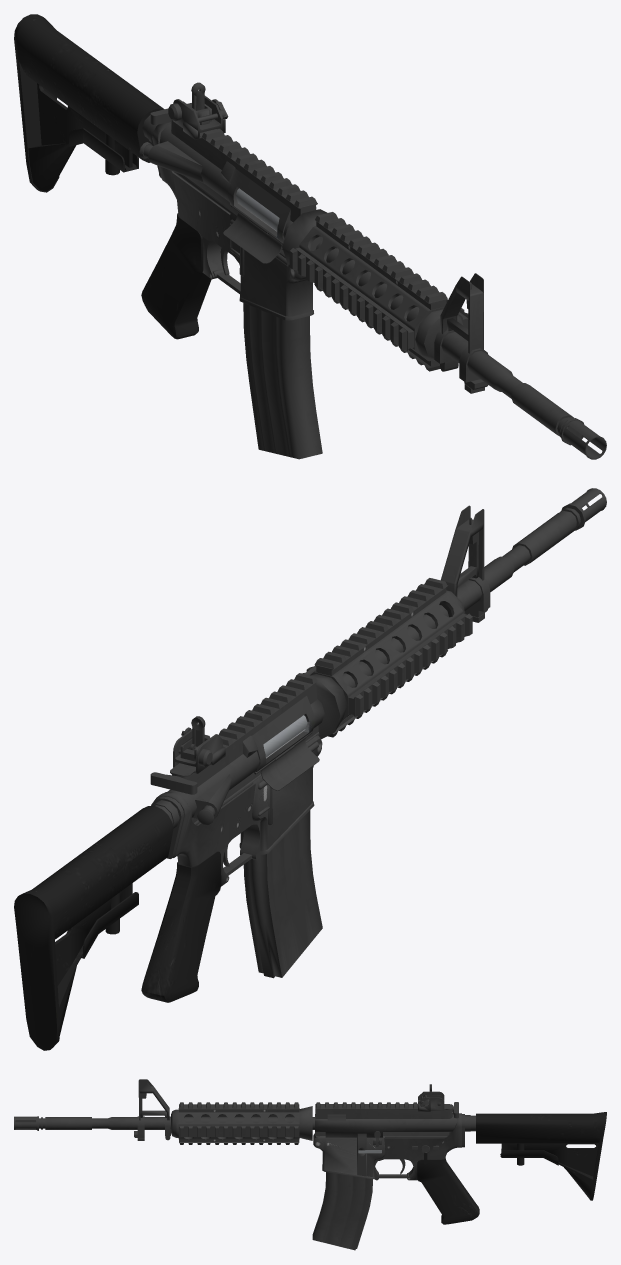
The picture shows the model from 3 angles, top to bottom: view 1: azimuth 30°, elevation 25°; view 2: azimuth 150°, elevation 25°; view 3: azimuth 270°, elevation 25°; orthographic projection. The views are drawn at different scales.
Parts seen in each view (by area): view 1: Malha; view 2: Malha; view 3: Malha.
Part boxes in pixels (x1,y1,x2,y2): Malha: (14,14,606,459); Malha: (14,488,606,1050); Malha: (14,1079,606,1250).
Size of the model in its own units: 0.0637 by 0.2667 by 0.86.
Materials: 1 (1 with a texture image).
